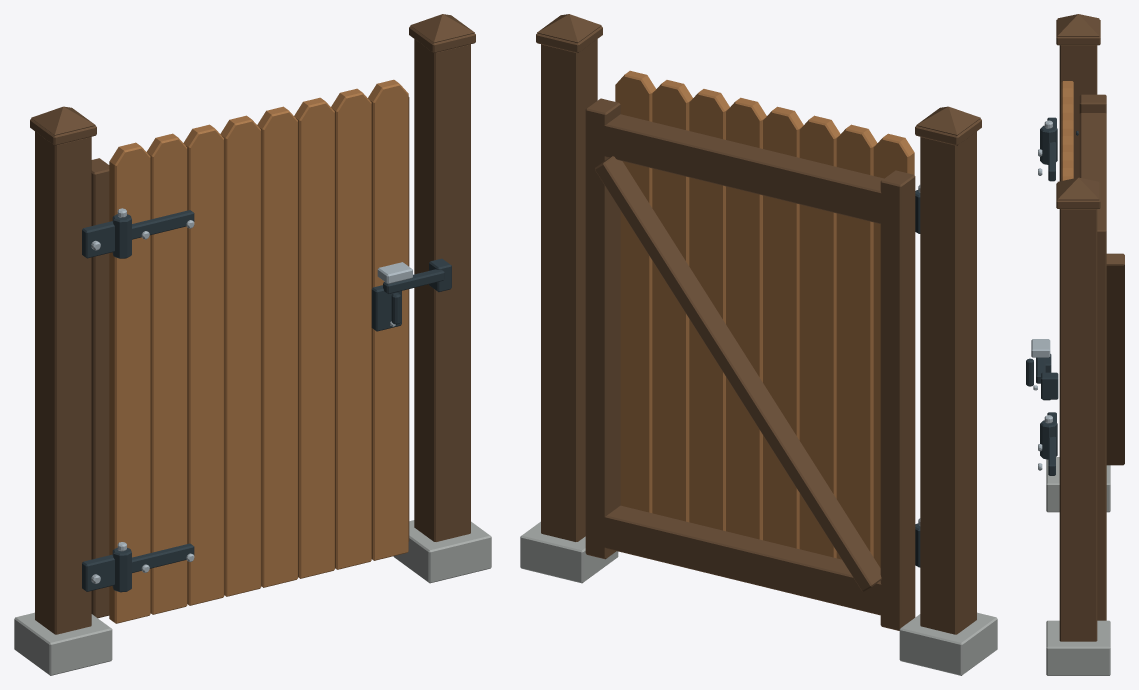
Rendered from b19_stockade_service_gate.glb.
3 views of the same model, side by side, from view 1: azimuth 30°, elevation 25°; view 2: azimuth 150°, elevation 25°; view 3: azimuth 270°, elevation 25° (orthographic). The views are drawn at different scales.
Parts seen in each view (by area): view 1: b19_stockade_service_gate; view 2: b19_stockade_service_gate; view 3: b19_stockade_service_gate.
Part boxes in pixels (left/top/right/bottom): b19_stockade_service_gate: left=14, top=14, right=491, bottom=675; b19_stockade_service_gate: left=520, top=14, right=997, bottom=675; b19_stockade_service_gate: left=1026, top=14, right=1124, bottom=675.
Bounding box in the file's own units: 1.68 × 1.99 × 0.3672.
